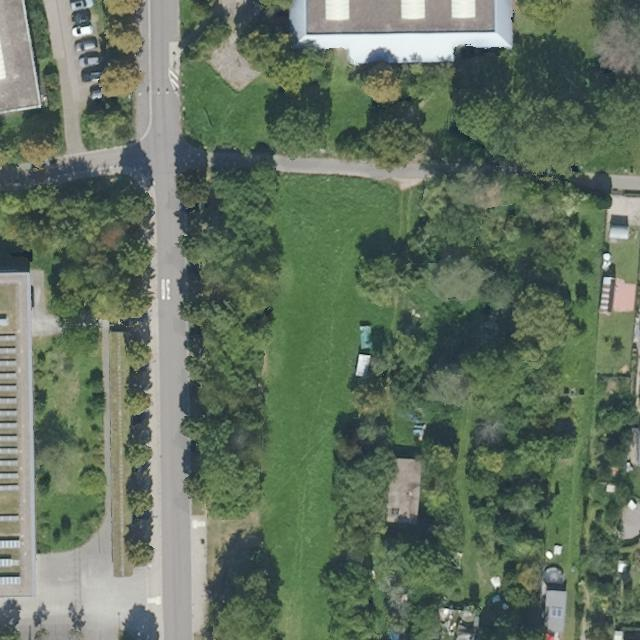PV: (0, 332, 22, 589)
